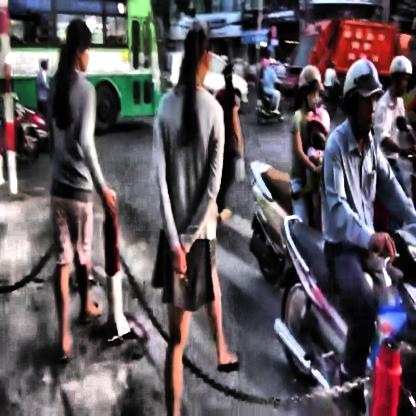not_wear: (185, 18, 211, 88), (64, 18, 92, 74)
wear: (341, 54, 383, 138), (297, 61, 326, 113), (389, 51, 414, 98)
